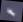Squash-Ball: (0, 1, 23, 22)
